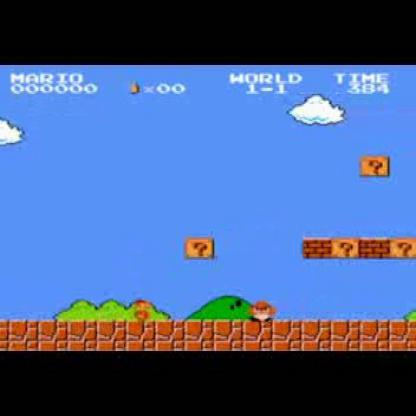Goomba: (245, 294, 279, 324)
